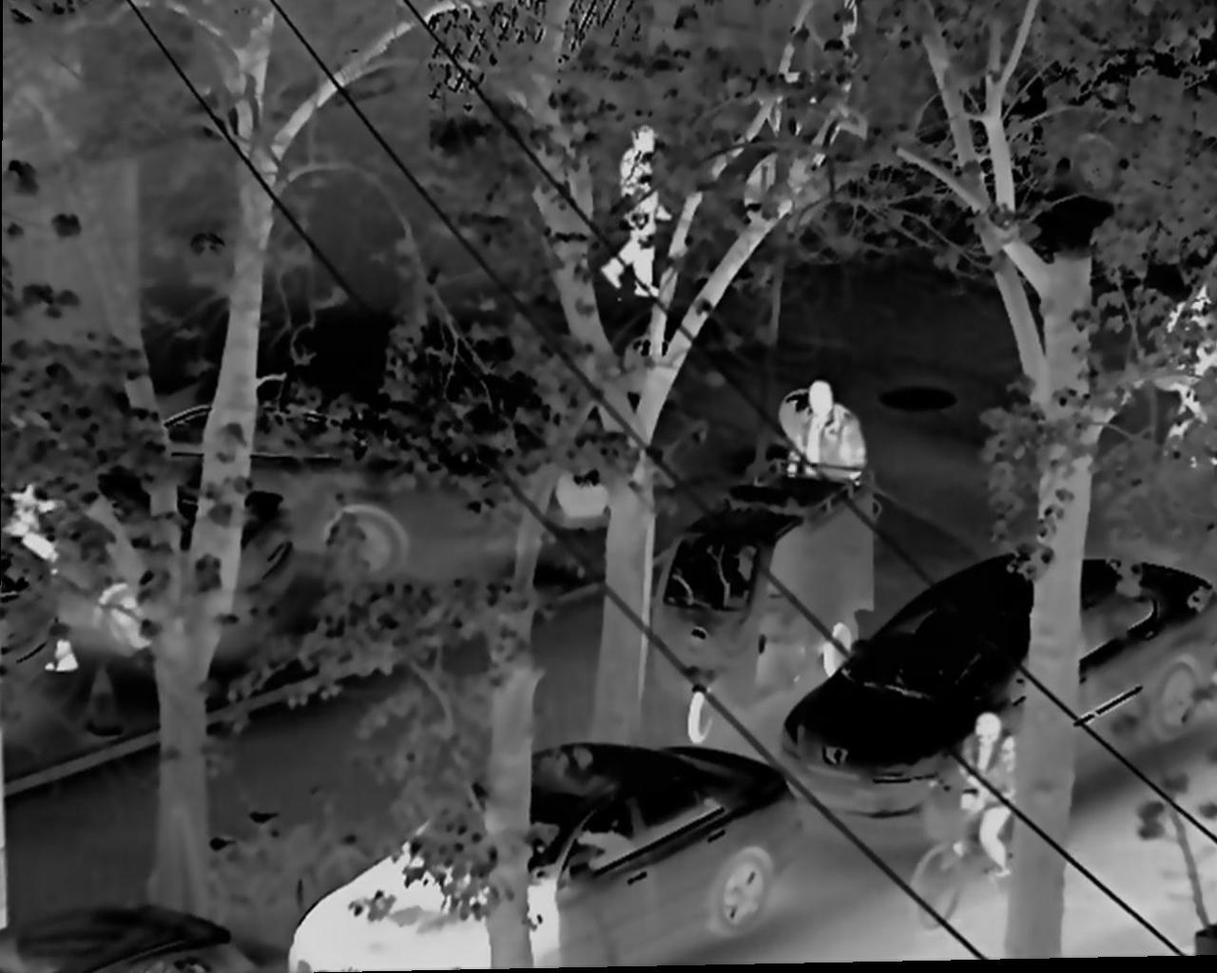person: (929, 704, 1050, 877), (599, 120, 686, 303), (790, 374, 877, 516), (1153, 275, 1217, 461)
